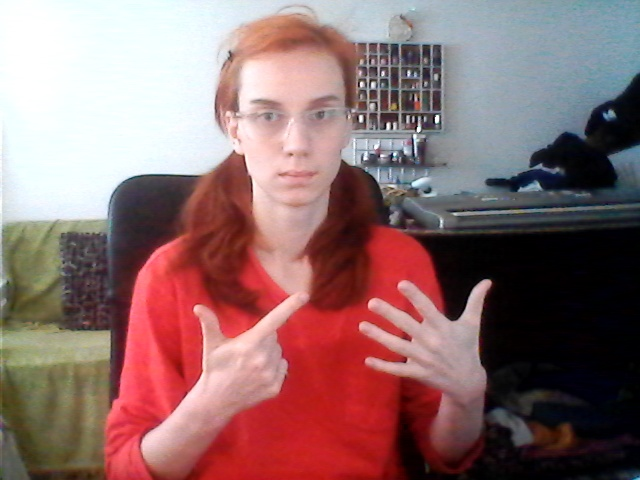sedem: (183, 274, 497, 405)
